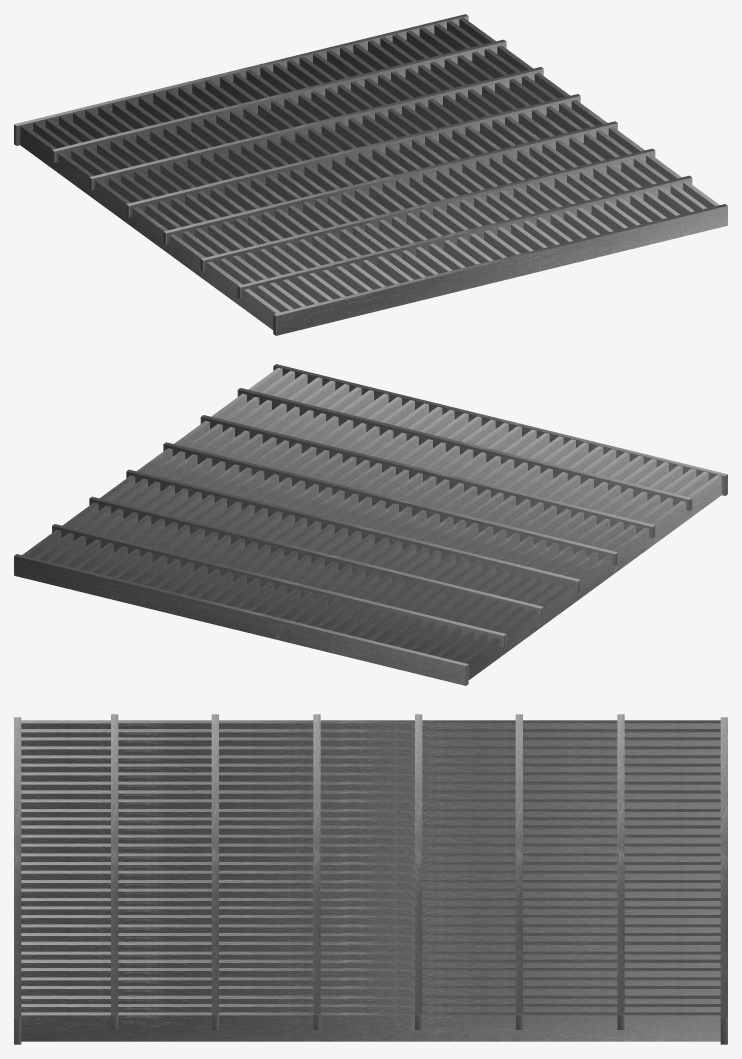
Rendered from metalGrate.glb.
3 renders of one model, top to bottom at view 1: azimuth 30°, elevation 25°; view 2: azimuth 150°, elevation 25°; view 3: azimuth 270°, elevation 25°, orthographic. The views are drawn at different scales.
Visible parts, largest first — view 1: Cube.004; view 2: Cube.004; view 3: Cube.004.
Boxes of the visible parts, box(x1,y1,x2,y2) form: Cube.004: box(14, 14, 727, 335); Cube.004: box(14, 364, 727, 685); Cube.004: box(14, 714, 727, 1044).
Bounding box in the file's own units: 5.06 × 0.237 × 5.08.
Materials: 1 (1 with a texture image).
